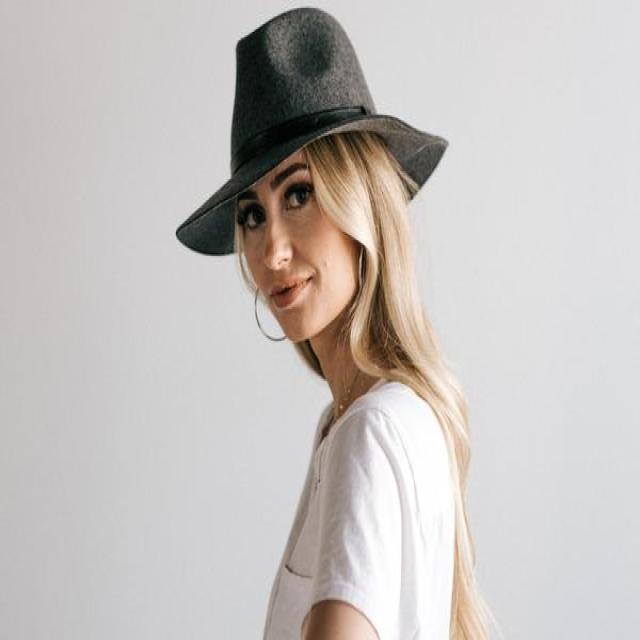hat: (178, 8, 450, 346)
